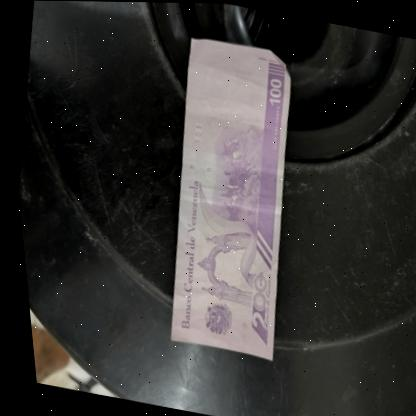one_hundred-back-vef: (134, 33, 320, 361)
